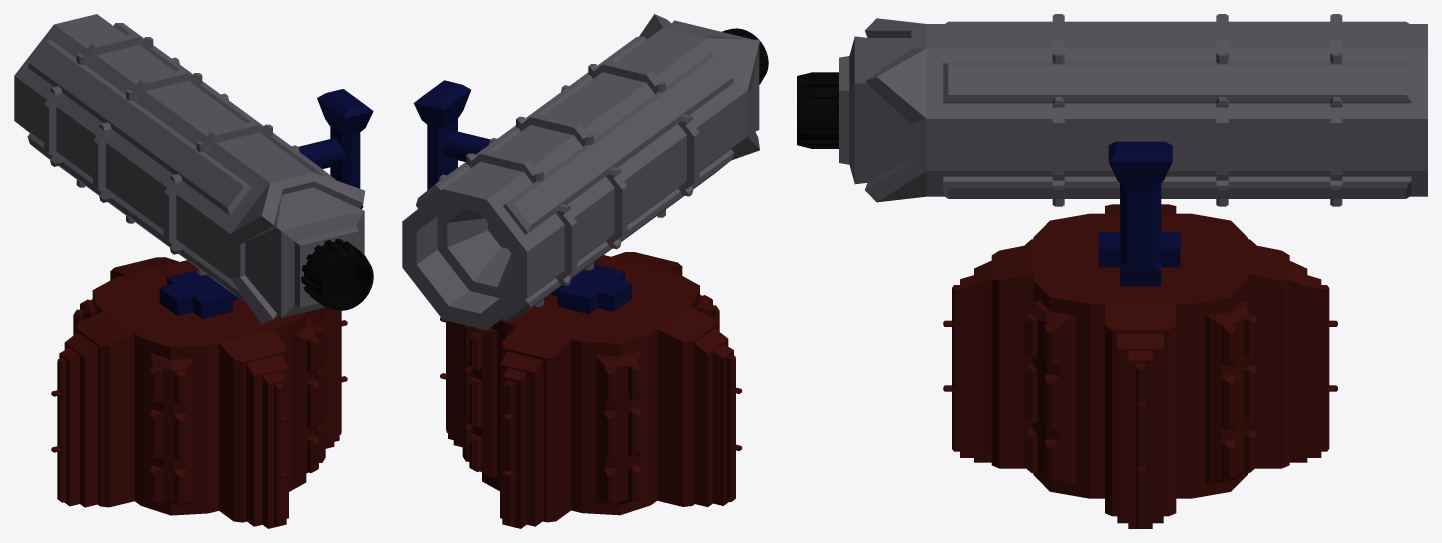
The model's file is RocketLauncher.fbx.
3 renders of one model, left to right at view 1: azimuth 30°, elevation 25°; view 2: azimuth 150°, elevation 25°; view 3: azimuth 270°, elevation 25°, orthographic. The views are drawn at different scales.
Parts seen in each view (by area): view 1: Cube, Cube.002, Cube.001, Cylinder; view 2: Cube.002, Cube, Cube.001, Cylinder; view 3: Cube.002, Cube, Cube.001, Cylinder.
Boxes of the visible parts, x1,y1,x2,y2 form: Cube: (51, 257, 347, 528); Cube.002: (14, 14, 365, 323); Cube.001: (159, 89, 373, 318); Cylinder: (301, 239, 373, 310); Cube.002: (402, 14, 759, 330); Cube: (440, 252, 742, 528); Cube.001: (413, 80, 631, 314); Cylinder: (721, 28, 768, 84); Cube.002: (839, 14, 1427, 206); Cube: (943, 204, 1337, 528); Cube.001: (1098, 141, 1180, 286); Cylinder: (797, 72, 838, 148).
Size of the model in its own units: 383 by 438 by 588.
